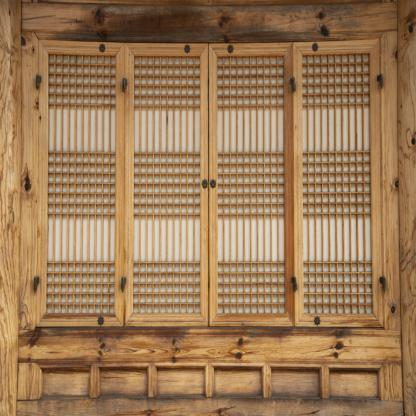Building Outline: (0, 1, 416, 416)
Facade: (0, 1, 416, 416)
Floor: (0, 1, 416, 416)
Window: (35, 38, 384, 327)
